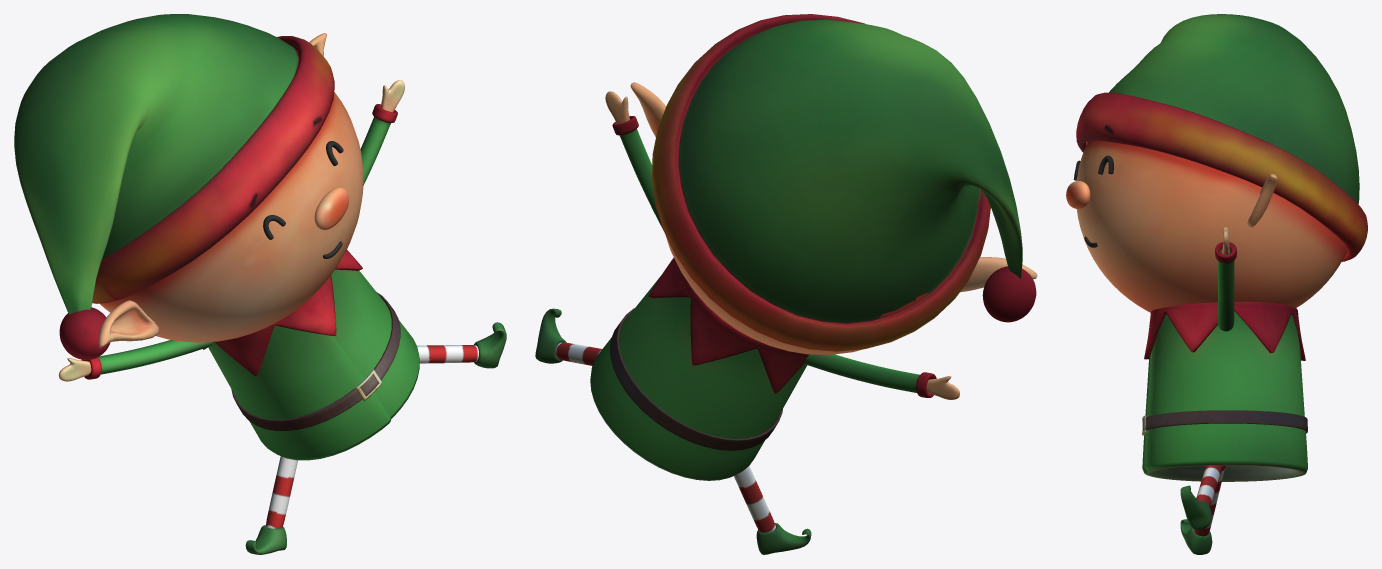
File: outa.glb
3 views of the same model, side by side, from view 1: azimuth 30°, elevation 25°; view 2: azimuth 150°, elevation 25°; view 3: azimuth 270°, elevation 25° (orthographic). The views are drawn at different scales.
Parts seen in each view (by area): view 1: _pose1_2division:Group3378; view 2: _pose1_2division:Group3378; view 3: _pose1_2division:Group3378.
Boxes of the visible parts, left/top/right/bottom form: _pose1_2division:Group3378: left=14, top=14, right=506, bottom=554; _pose1_2division:Group3378: left=535, top=14, right=1037, bottom=554; _pose1_2division:Group3378: left=1066, top=14, right=1367, bottom=554.
Bounding box in the file's own units: 0.1084 × 0.1194 × 0.068.
1 material, 1 textured.
